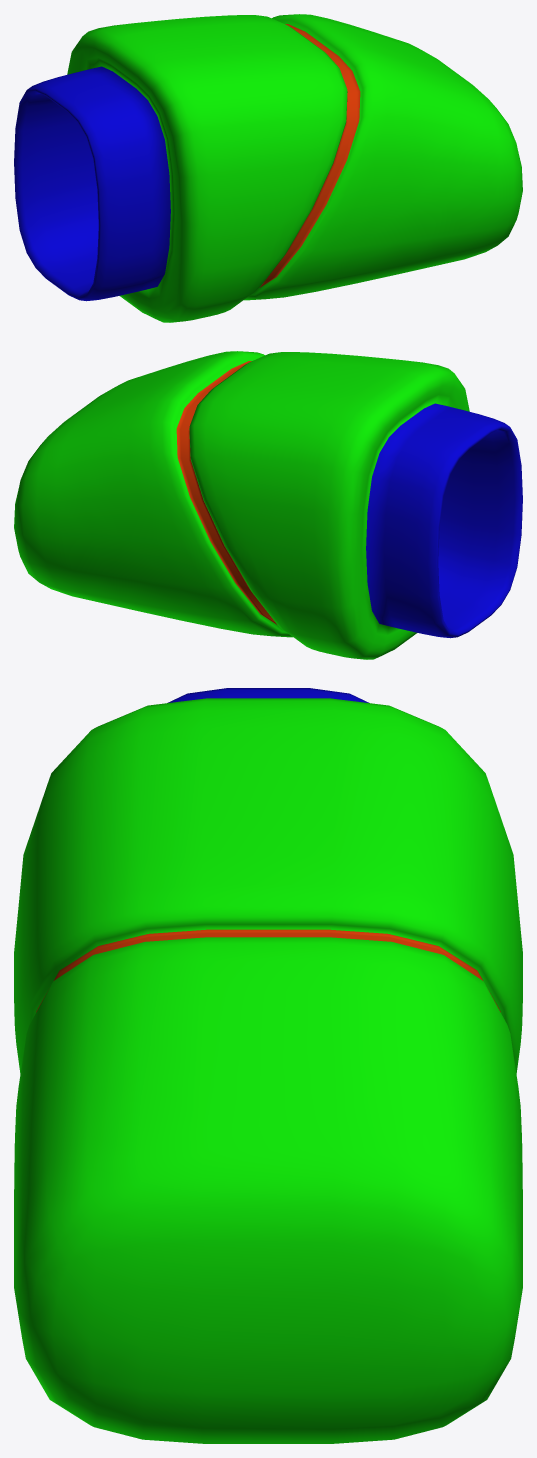
Rendered from UnionEngine_01.fbx.
3 renders of one model, top to bottom at view 1: azimuth 30°, elevation 25°; view 2: azimuth 150°, elevation 25°; view 3: azimuth 270°, elevation 25°, orthographic. The views are drawn at different scales.
Visible parts, largest first — view 1: Cube; view 2: Cube; view 3: Cube.
Part boxes in pixels (bbox=[...]): Cube: bbox=[14, 14, 522, 322]; Cube: bbox=[14, 351, 522, 659]; Cube: bbox=[14, 688, 522, 1443].
Size of the model in its own units: 1.94 by 1.98 by 3.42.
